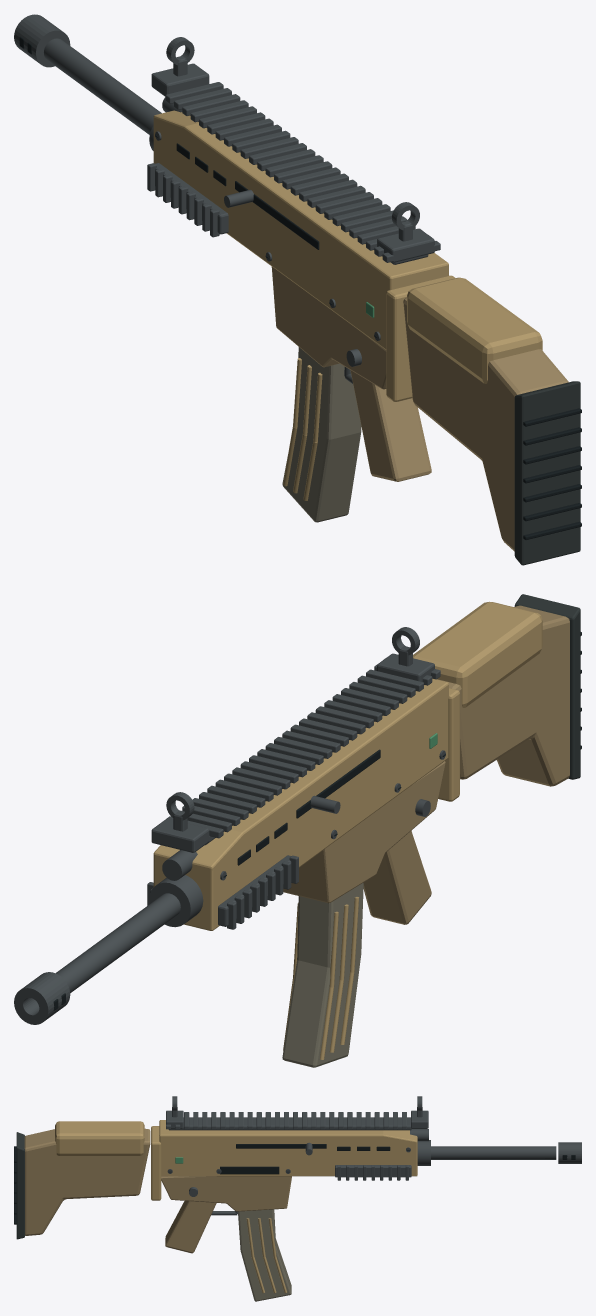
The model's file is rifle_1.glb.
3 views of the same model, one above another, from view 1: azimuth 30°, elevation 25°; view 2: azimuth 150°, elevation 25°; view 3: azimuth 270°, elevation 25° (orthographic). The views are drawn at different scales.
Parts seen in each view (by area): view 1: Weapon_rifle_realism_v2; view 2: Weapon_rifle_realism_v2; view 3: Weapon_rifle_realism_v2.
Part boxes in pixels (box(x1,y1,x2,y2)): Weapon_rifle_realism_v2: box(14, 14, 581, 565); Weapon_rifle_realism_v2: box(14, 594, 581, 1067); Weapon_rifle_realism_v2: box(14, 1096, 581, 1301).
Size of the model in its own units: 0.122 by 0.3904 by 1.
